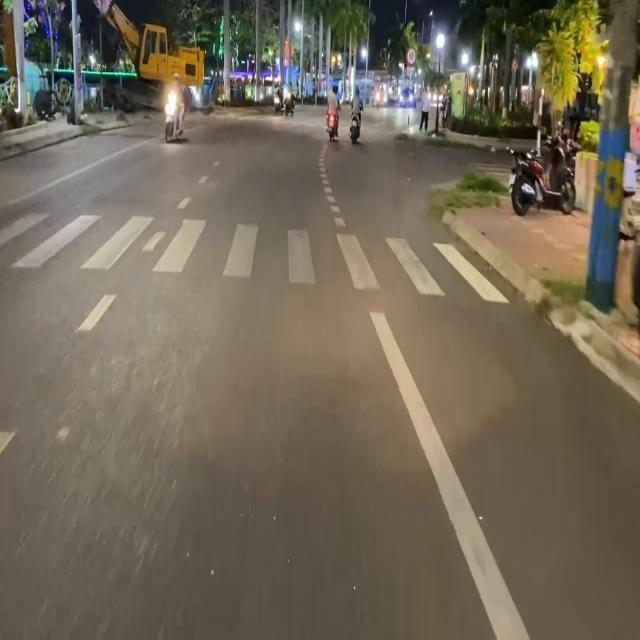walk-crossing: (0, 207, 509, 307)
